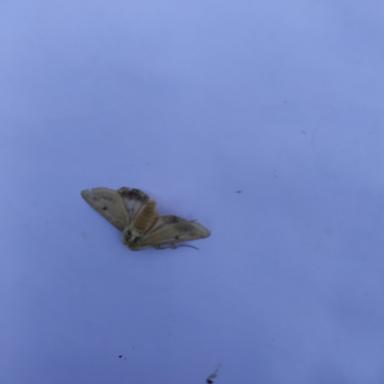abw: (77, 184, 215, 254)
